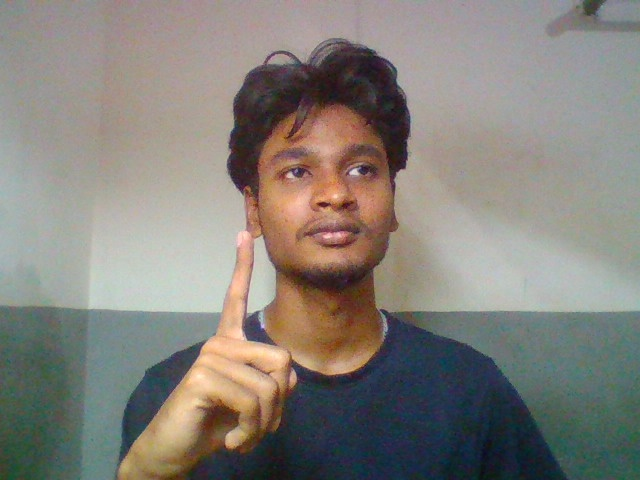I: (115, 224, 312, 480)
